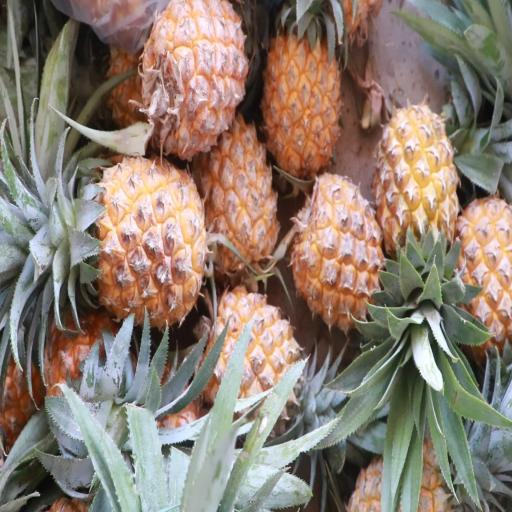Pineapple - v8 v1: (63, 153, 211, 333), (139, 0, 251, 165), (291, 171, 395, 339), (195, 286, 309, 438), (371, 100, 462, 263), (262, 5, 344, 185), (194, 112, 281, 281), (449, 193, 512, 373)
